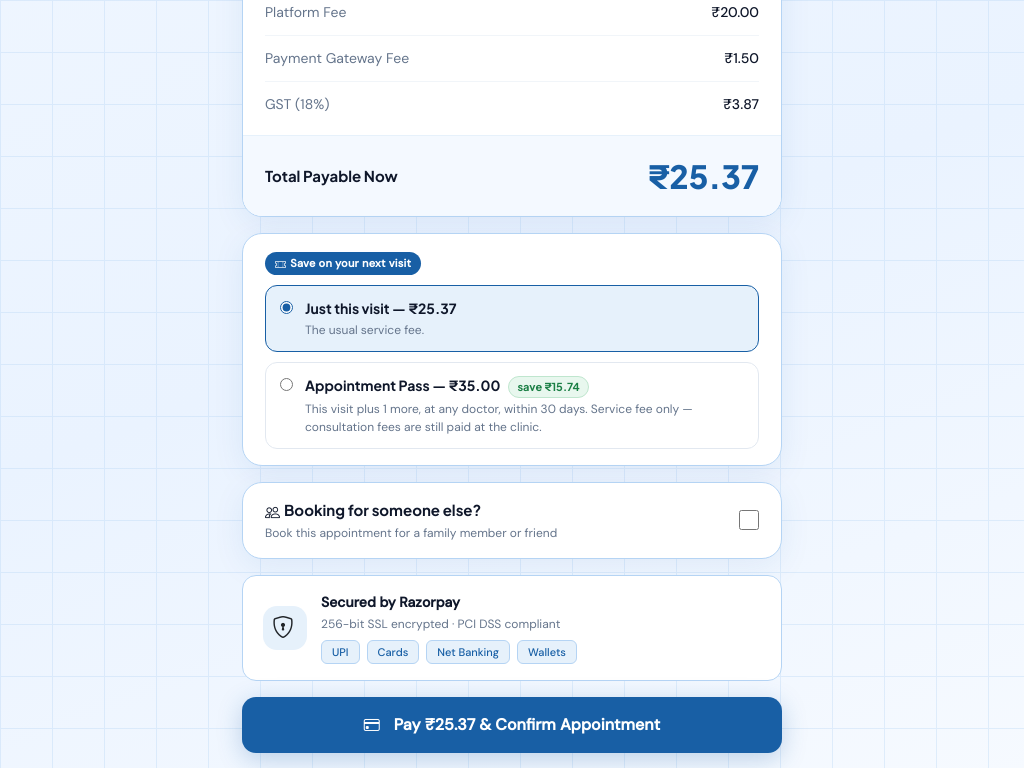
Test: choosing the pass repriced the button to ₹35
The image size is (1024, 768).
(page scrolled)
Click the 2nd radio button at x=286, y=384, box [280,378,293,391]
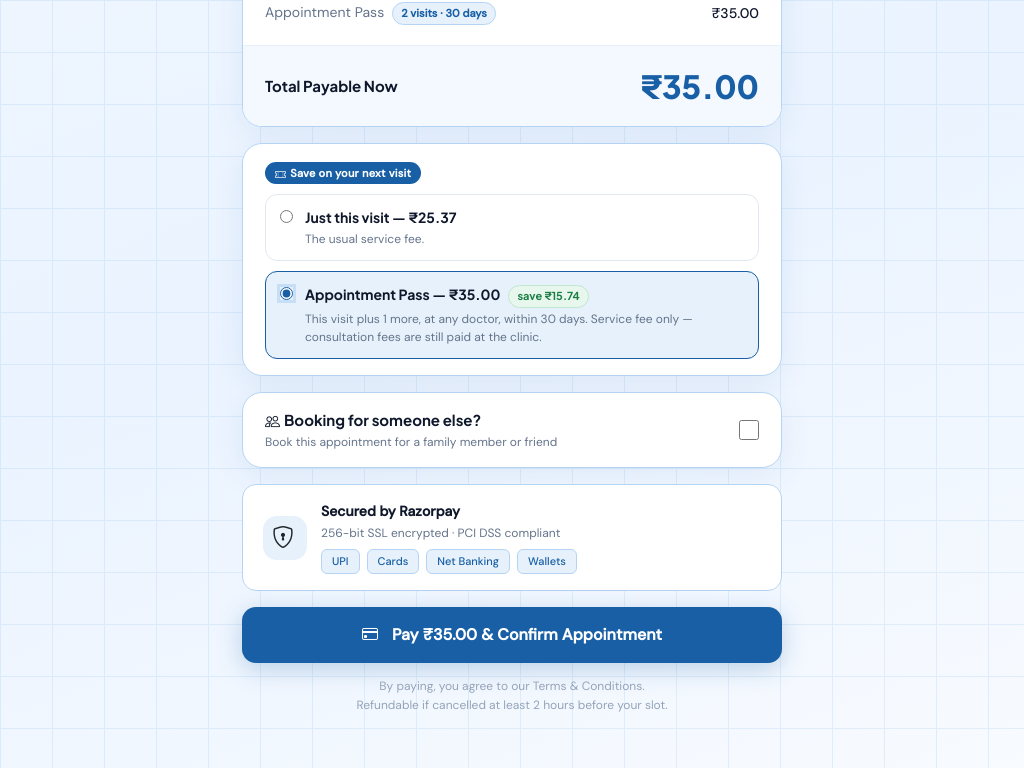
Now the button "Pay ₹35.00 & Confirm Appointment" is shown, box [242,607,782,663]
